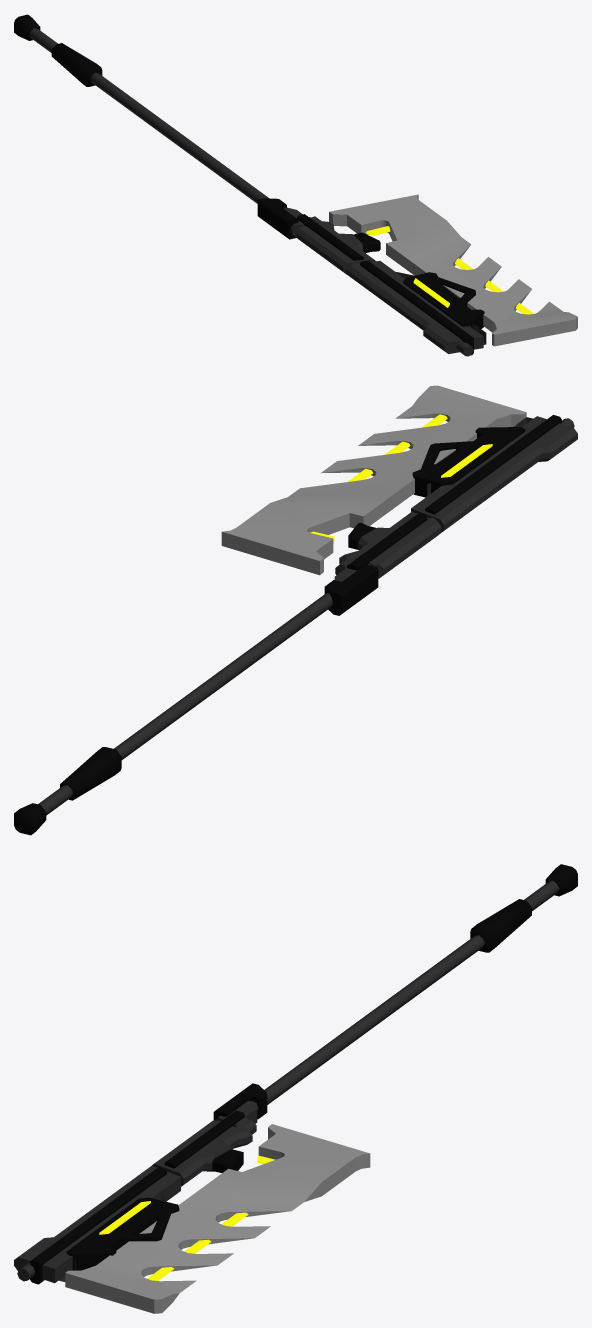
File: Melee0_Export.fbx
3 renders of one model, top to bottom at view 1: azimuth 30°, elevation 25°; view 2: azimuth 150°, elevation 25°; view 3: azimuth 330°, elevation 25°, orthographic. The views are drawn at different scales.
Visible parts, largest first — view 1: Sword0; view 2: Sword0; view 3: Sword0.
Boxes of the visible parts, x1,y1,x2,y2 form: Sword0: [14, 14, 577, 356]; Sword0: [14, 385, 577, 835]; Sword0: [14, 864, 577, 1313].
Size of the model in its own units: 0.4411 by 0.0652 by 2.57.
